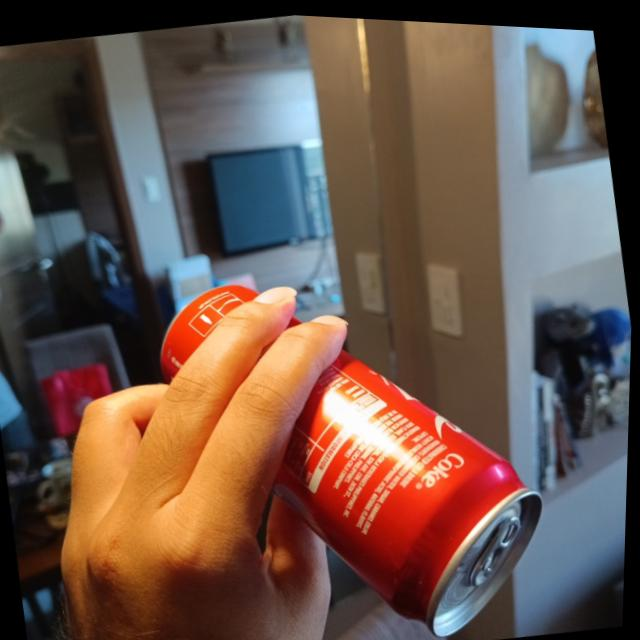coke: (146, 239, 560, 640)
